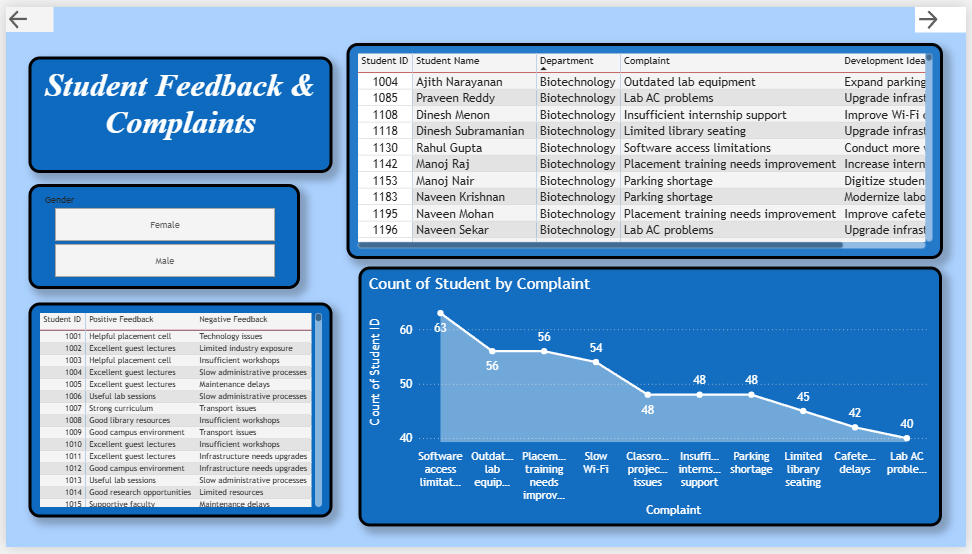

The page's visual inventory and layout, read from the dashboard file:
{"tool":"powerbi","page":{"name":"SF&C","canvas":[1280,720],"ordinal":3},"visuals":[{"type":"textbox","box":[30,66.7,405,155],"z":0},{"type":"areaChart","title":"Count of Student by Complaint","fields":{"Y":["CountNonNull(Student Feedback Data.Student ID)"],"Category":["Student Feedback Data.Complaint"]},"box":[470.8,346.8,777.8,346.8],"z":1000},{"type":"slicer","fields":{"Values":["Student Academic Performance.Gender"]},"box":[30,235,361.7,140],"z":2000},{"type":"tableEx","fields":{"Values":["Fees.Student ID","Student Academic Performance.Student Name","Student Feedback Data.Department","Student Feedback Data.Complaint","Student Feedback Data.Development Idea"]},"box":[453.3,47.7,795.3,287.9],"z":3000},{"type":"tableEx","fields":{"Values":["Student Academic Performance.Student ID","Student Feedback Data.Positive Feedback","Student Feedback Data.Negative Feedback"]},"box":[30,393.3,405,286.7],"z":4000},{"type":"actionButton","box":[0,0,63.6,33.4],"z":5000},{"type":"actionButton","box":[1212,0,68,34],"z":6000}]}

Visuals, with their boxes in screenshot pixels (x1, y1, x2, y2), scaled from the page's 1280x720 canvas onto the 972x554 screenshot:
textbox: {"left": 23, "top": 51, "right": 330, "bottom": 171}
"Count of Student by Complaint" areaChart: {"left": 358, "top": 267, "right": 948, "bottom": 534}
slicer - Student Academic Performance.Gender: {"left": 23, "top": 181, "right": 297, "bottom": 289}
tableEx - Fees.Student ID x Student Academic Performance.Student Name: {"left": 344, "top": 37, "right": 948, "bottom": 258}
tableEx - Student Academic Performance.Student ID x Student Feedback Data.Positive Feedback: {"left": 23, "top": 303, "right": 330, "bottom": 523}
actionButton: {"left": 0, "top": 0, "right": 48, "bottom": 26}
actionButton: {"left": 920, "top": 0, "right": 971, "bottom": 26}
